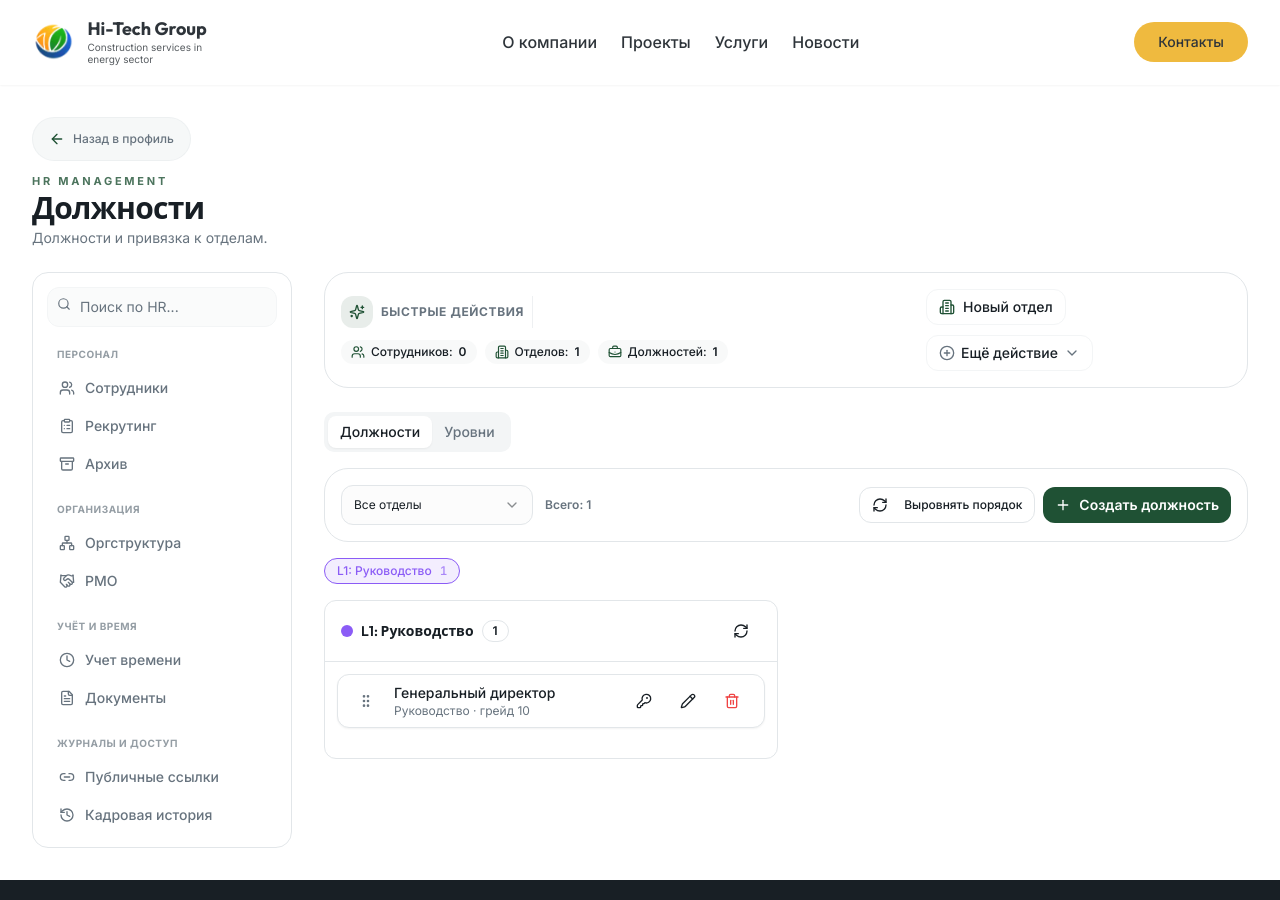
HRPositions — внешняя иерархия › участие нельзя выбрать, пока должность не руководящая
The width and height of the screenshot is (1280, 900).
Click the button titled "Редактировать" at {"x": 688, "y": 700}, box [668,682,708,718]
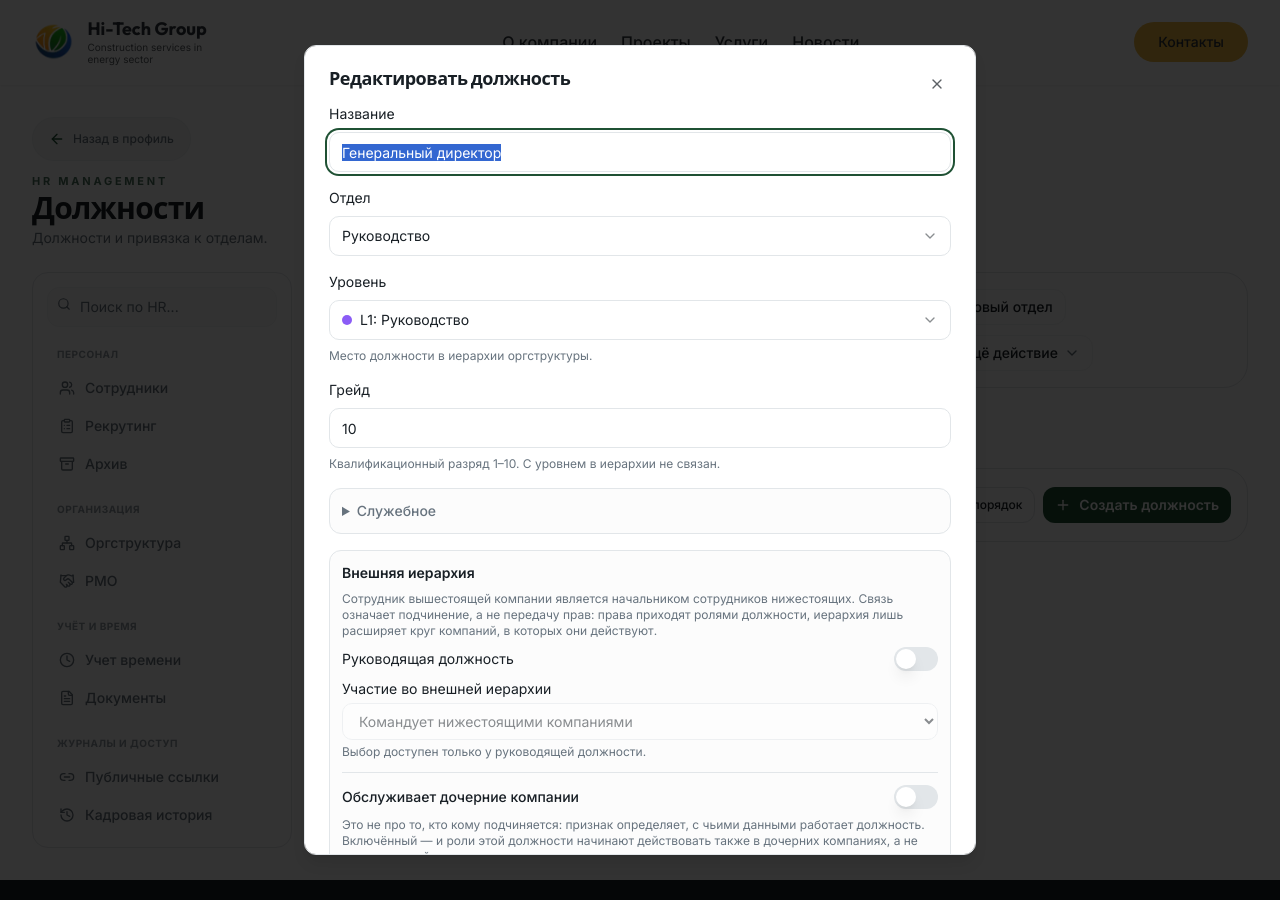
Result: the switch named "Руководящая должность" is not checked at [894,647,938,671]
Result: the dropdown labelled "внешней иерархии" is disabled at [342,703,938,740]
